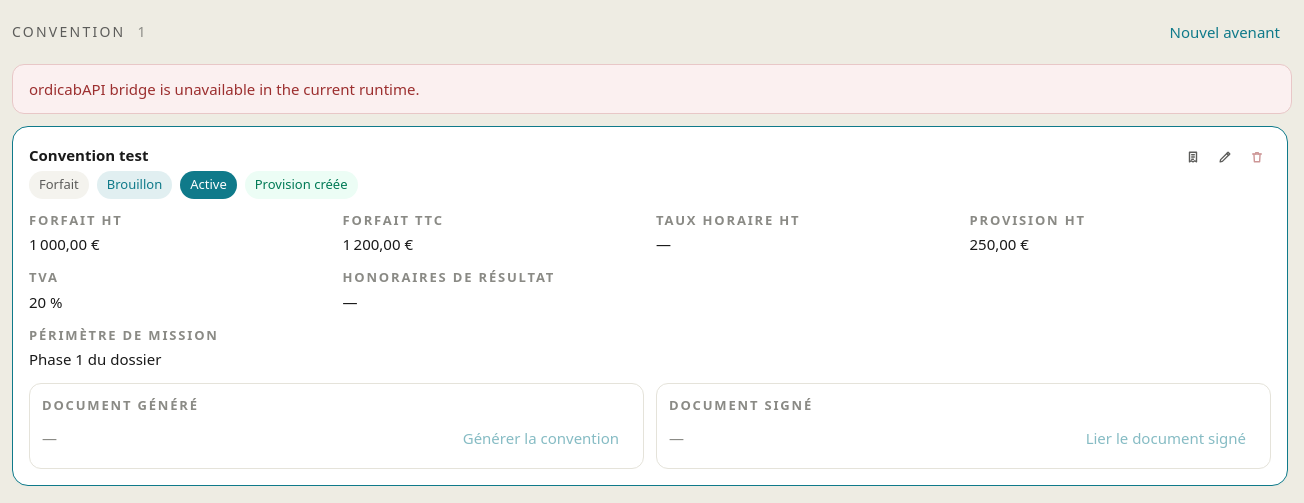
DossierFeeAgreementSection — commercial discount › marks existing fee-agreement billing items and disables duplicate conversion choices
The width and height of the screenshot is (1304, 503).
Check: the text "Provision créée" is shown, box [245,171,358,198]
Click the button named "Transformer en prestation" at (1193, 157), box [1179,143,1207,171]
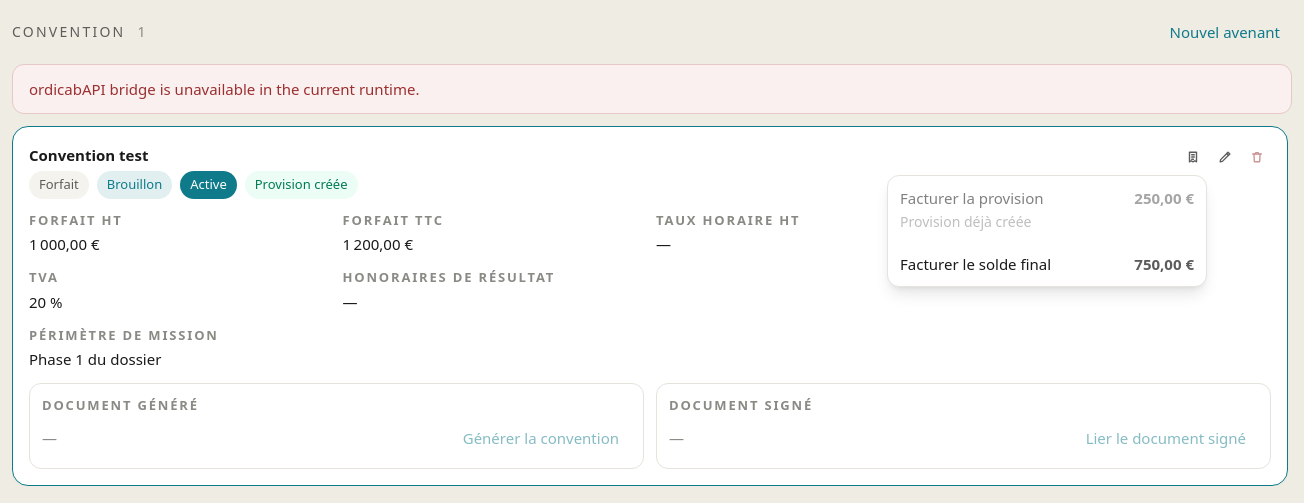
Check: the menu item "Facturer la provision Provision déjà créée 250,00 €" is disabled, box [888,176,1206,242]
Check: the text "Provision déjà créée" is shown, box [900,212,1044,232]
